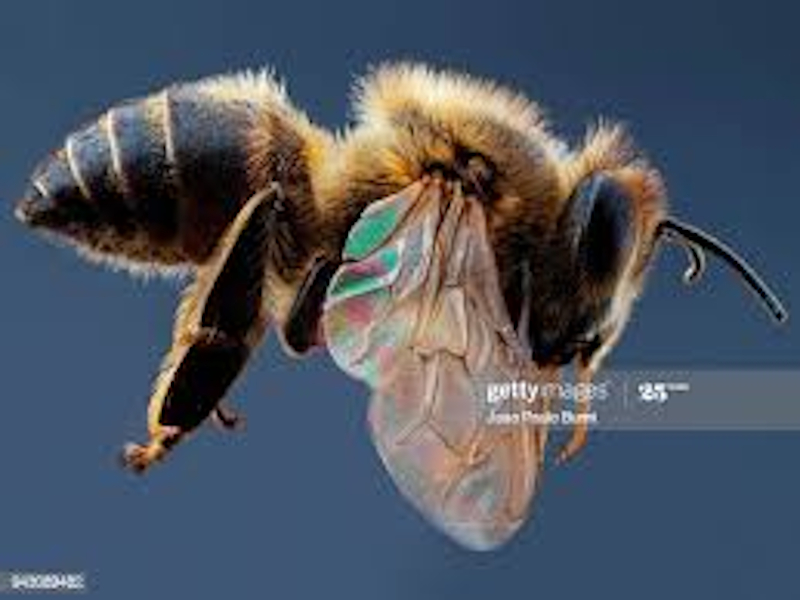abeja: (17, 38, 781, 517)
